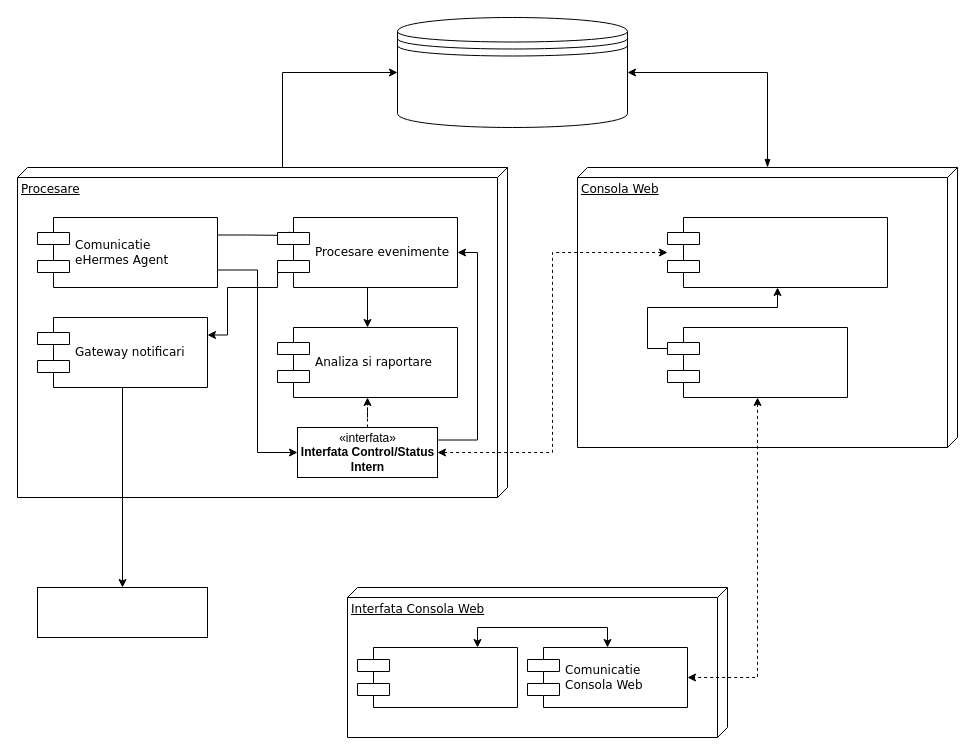
Some shapes in this 975 by 755 pixel diagram are drawn without their labels. The shapes that lost their labels are listed below. From the top down, each one's centre as x and y in pixels, then its label:
the point at 512,72: Baza de date
the point at 777,252: Comenzi Procesare/Status
the point at 757,362: Web Service API
the point at 122,612: «extern» Subsistem Notificari E-mail
the point at 437,677: Interfata Utilizator
